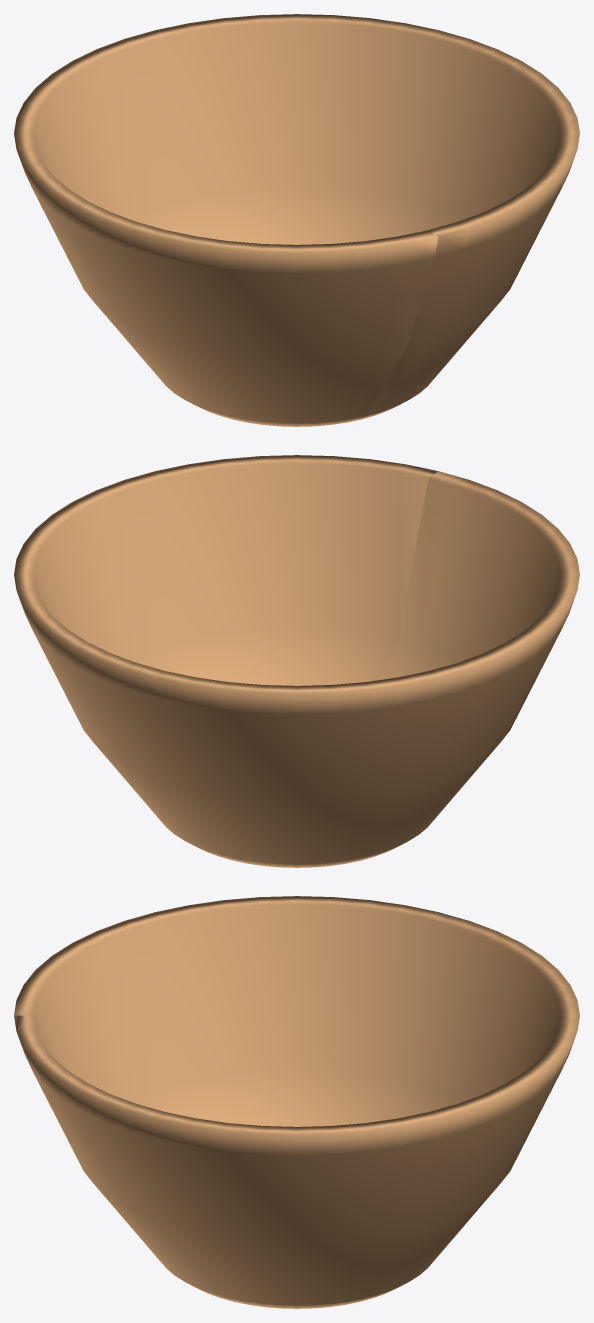
Rendered from ORI-17.glb.
The picture shows the model from 3 angles, top to bottom: view 1: azimuth 30°, elevation 25°; view 2: azimuth 150°, elevation 25°; view 3: azimuth 270°, elevation 25°; orthographic projection.
Size of the model in its own units: 0.15 by 0.07 by 0.15.
